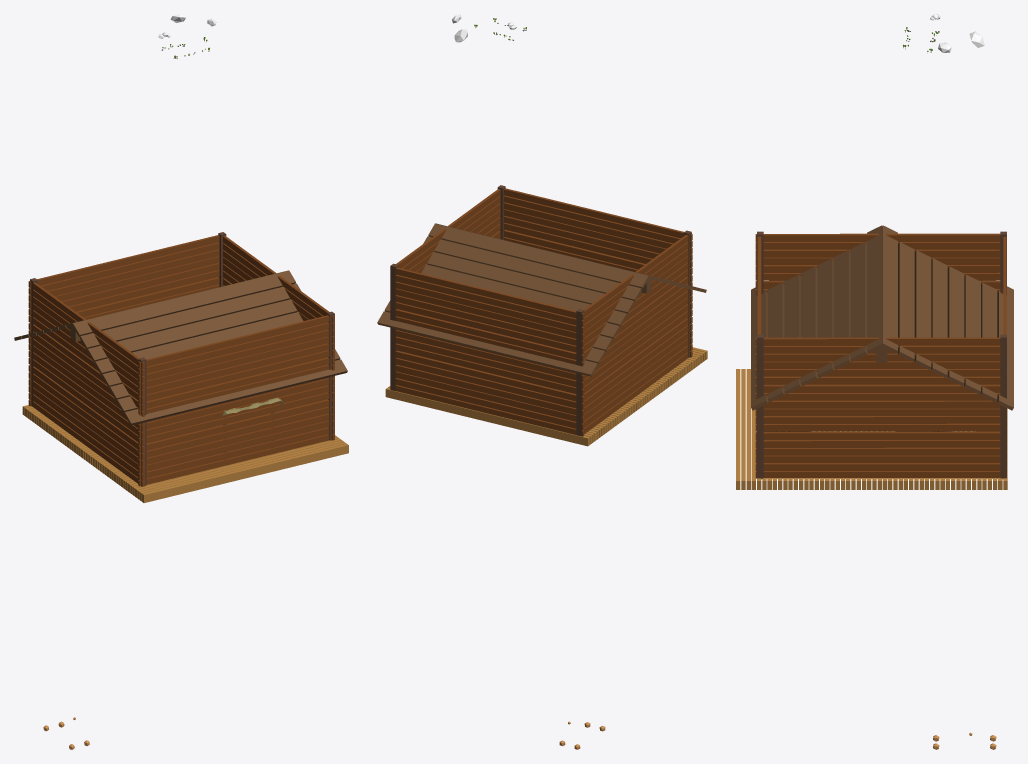
Rendered from TD_Model_TreasureDefense_AssetsAppliedScale.fbx.
3 renders of one model, left to right at view 1: azimuth 30°, elevation 25°; view 2: azimuth 150°, elevation 25°; view 3: azimuth 270°, elevation 25°, orthographic. The views are drawn at different scales.
Visible parts, largest first — view 1: Cube, Roof, WoodenFloor; view 2: Cube, Roof2, WoodenFloor; view 3: Cube, Roof2, Roof, WoodenFloor.
Boxes of the visible parts, x1,y1,x2,y2 form: Cube: [28, 232, 334, 486]; Roof: [72, 270, 347, 425]; WoodenFloor: [22, 405, 348, 502]; Cube: [390, 185, 692, 436]; Roof2: [377, 223, 648, 376]; WoodenFloor: [385, 347, 707, 446]; Cube: [755, 231, 1006, 479]; Roof2: [881, 225, 1013, 410]; Roof: [751, 225, 882, 410]; WoodenFloor: [736, 369, 1007, 489].
Size of the model in its own units: 15.82 by 48.53 by 15.71.
